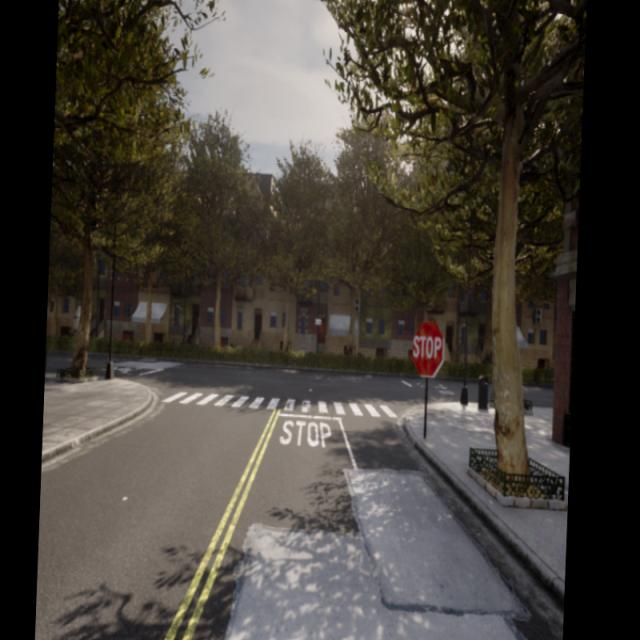stop sign: (409, 317, 446, 380), (412, 333, 442, 360)
